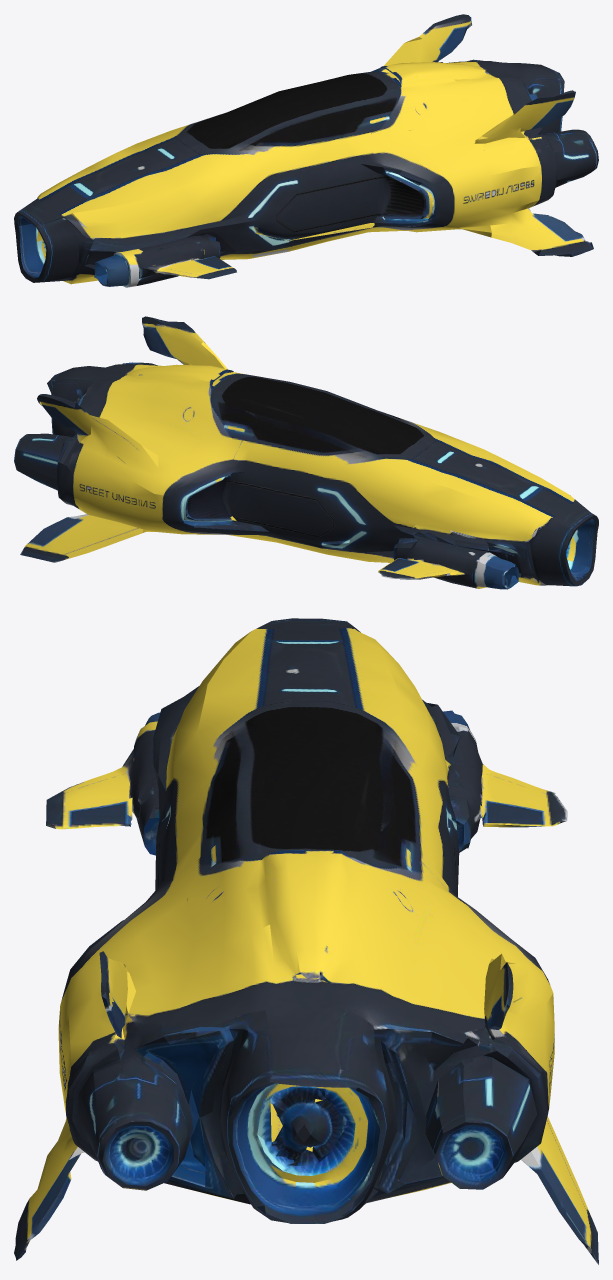
The model's file is racer_optimized-team2.glb.
3 renders of one model, top to bottom at view 1: azimuth 30°, elevation 25°; view 2: azimuth 150°, elevation 25°; view 3: azimuth 270°, elevation 25°, orthographic. The views are drawn at different scales.
Parts seen in each view (by area): view 1: Mesh_0.001; view 2: Mesh_0.001; view 3: Mesh_0.001.
Boxes of the visible parts, x1,y1,x2,y2 form: Mesh_0.001: (14, 14, 598, 287); Mesh_0.001: (14, 316, 598, 589); Mesh_0.001: (14, 618, 598, 1264).
Bounding box in the file's own units: 1.9 × 0.53 × 0.9426.
1 material, 1 textured.
